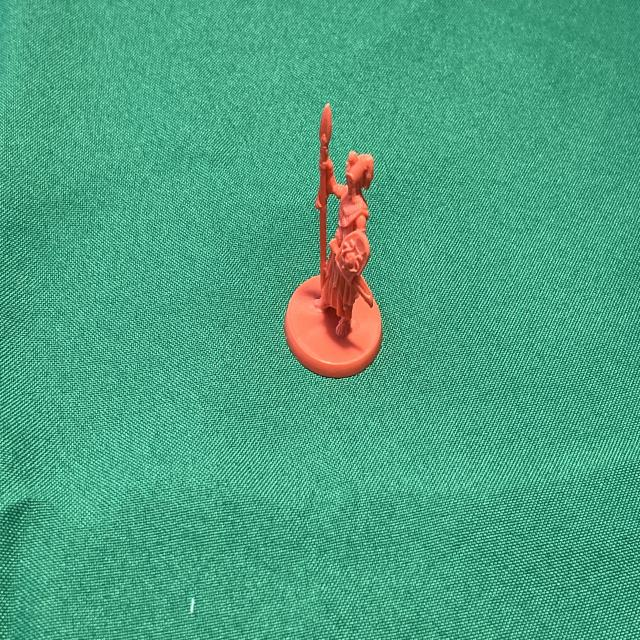amon_follower: (284, 105, 382, 378)
